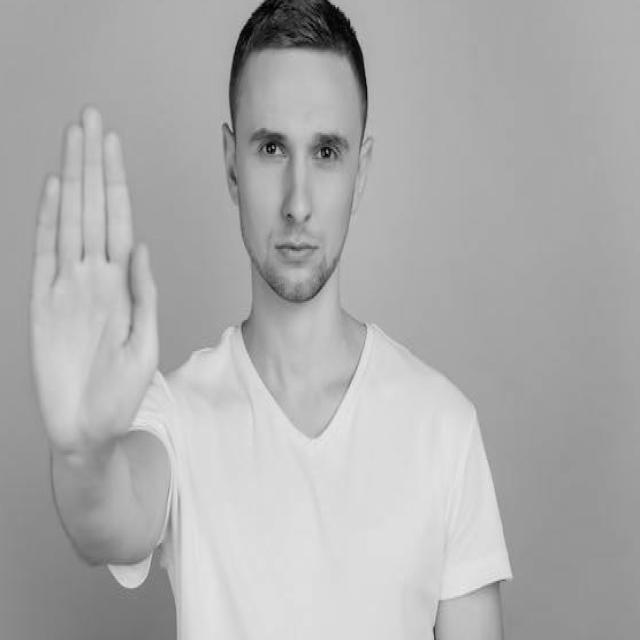stop: (24, 96, 164, 463)
